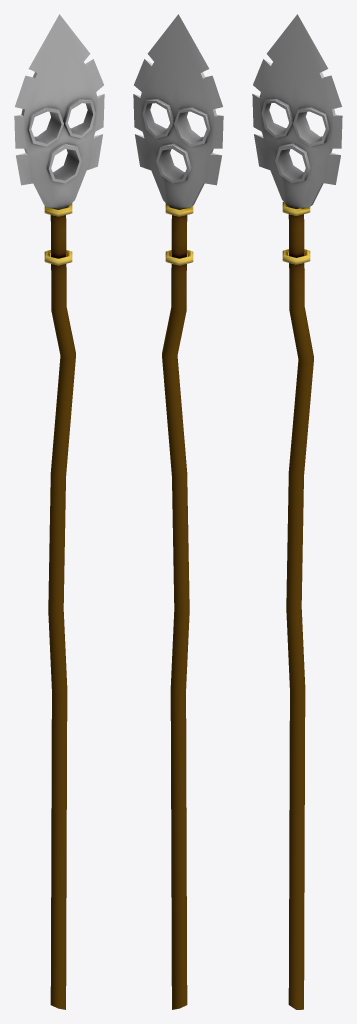
The model's file is spear.fbx.
3 views of the same model, side by side, from view 1: azimuth 30°, elevation 25°; view 2: azimuth 150°, elevation 25°; view 3: azimuth 330°, elevation 25° (orthographic).
Parts seen in each view (by area): view 1: spear_geo; view 2: spear_geo; view 3: spear_geo.
Boxes of the visible parts, x1,y1,x2,y2 form: spear_geo: [14, 14, 104, 1009]; spear_geo: [133, 14, 223, 1009]; spear_geo: [252, 14, 342, 1009].
Size of the model in its own units: 16.49 by 174 by 4.38.
